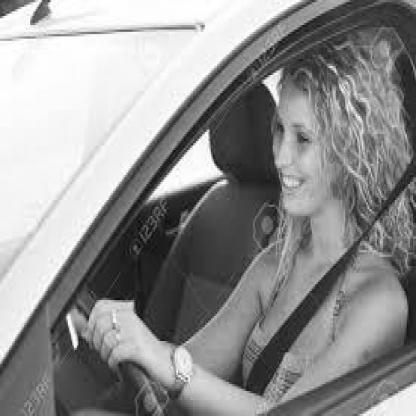seatbelt: (260, 68, 392, 382)
